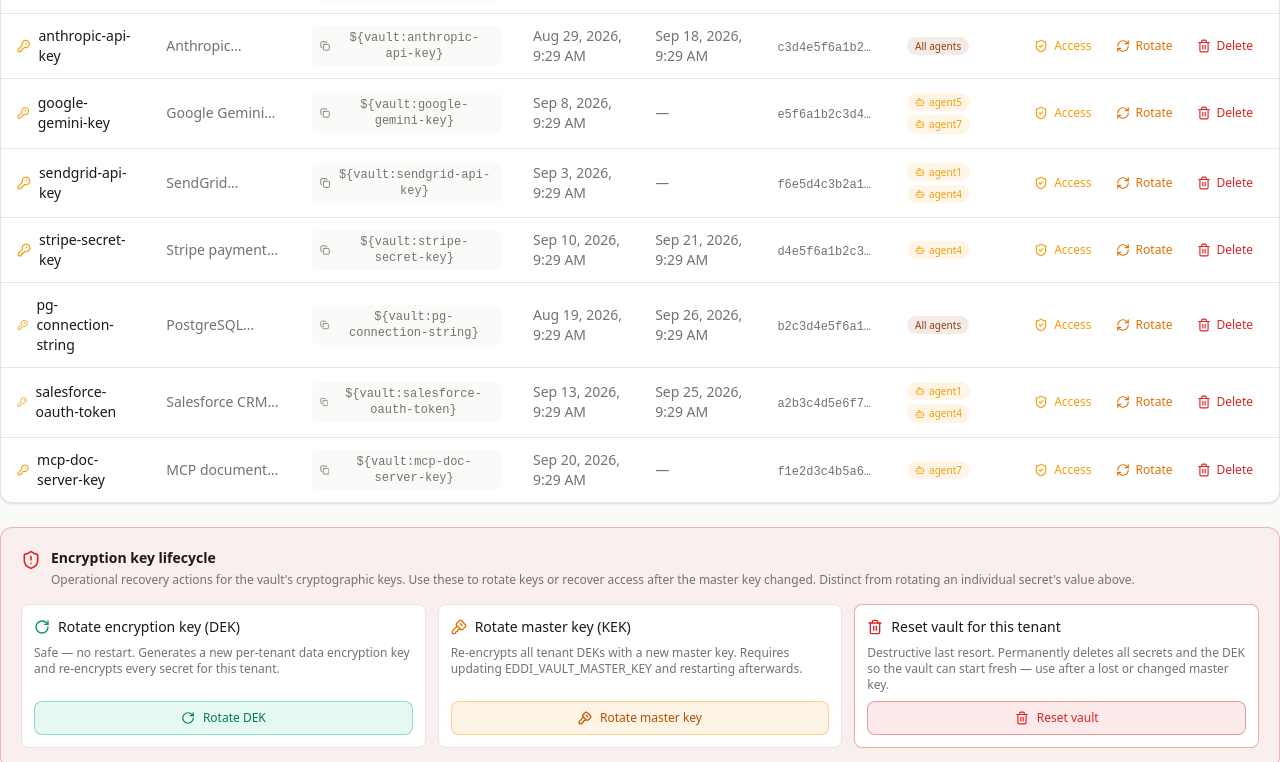
SecretsPage — key lifecycle danger zone › successful KEK rotation surfaces the update-and-restart instruction
The image size is (1280, 762).
(page scrolled)
Click the button with test id "open-rotate-kek" at (640, 718), box [451,701,829,735]
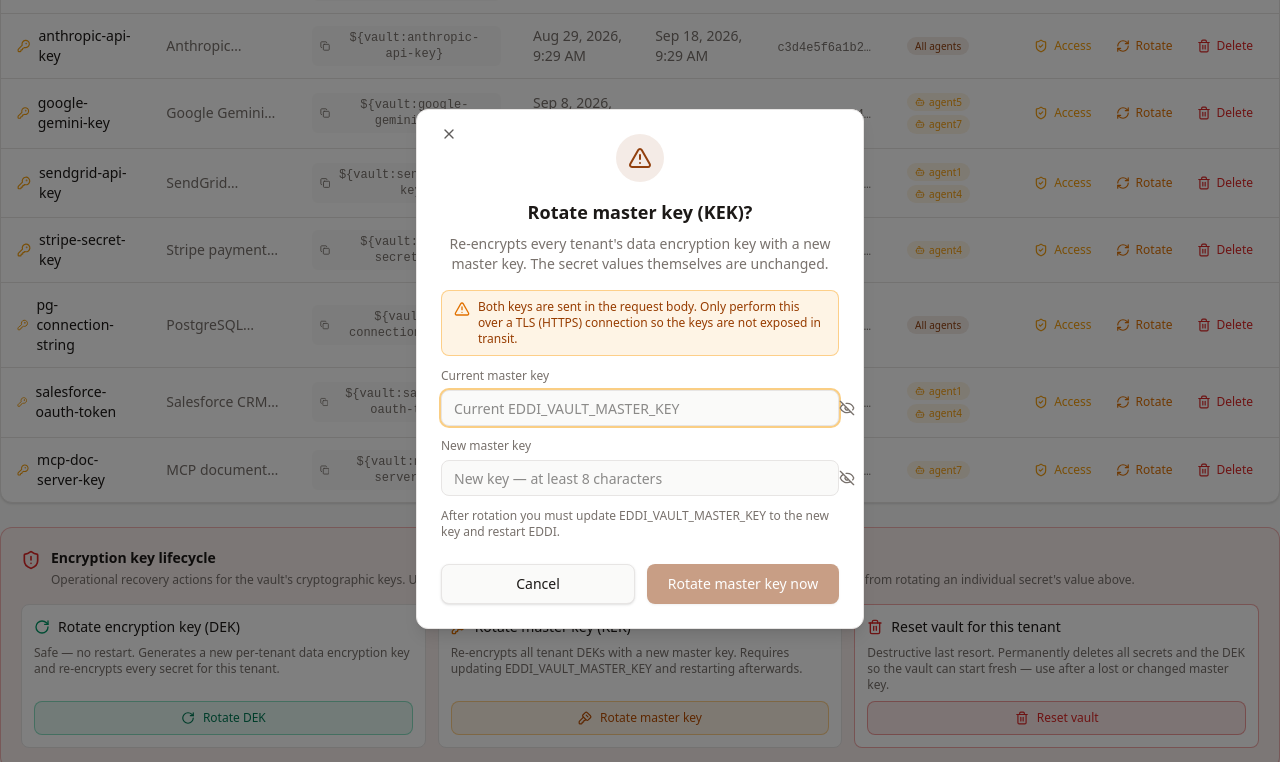
Type "old-master-key" into the password field with test id "kek-old-key-input" at (640, 408), box [441,390,839,426]
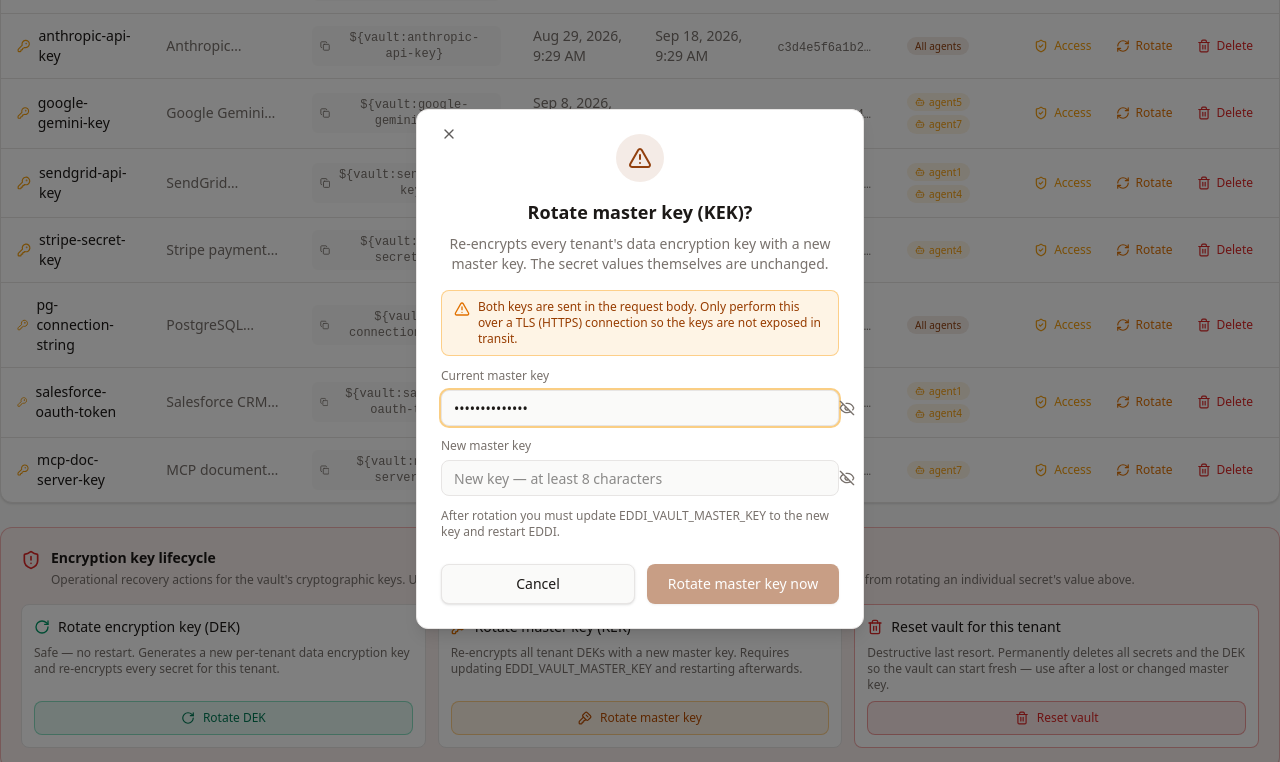
Type "new-master-key-123" into the password field with test id "kek-new-key-input" at (640, 478), box [441,460,839,496]
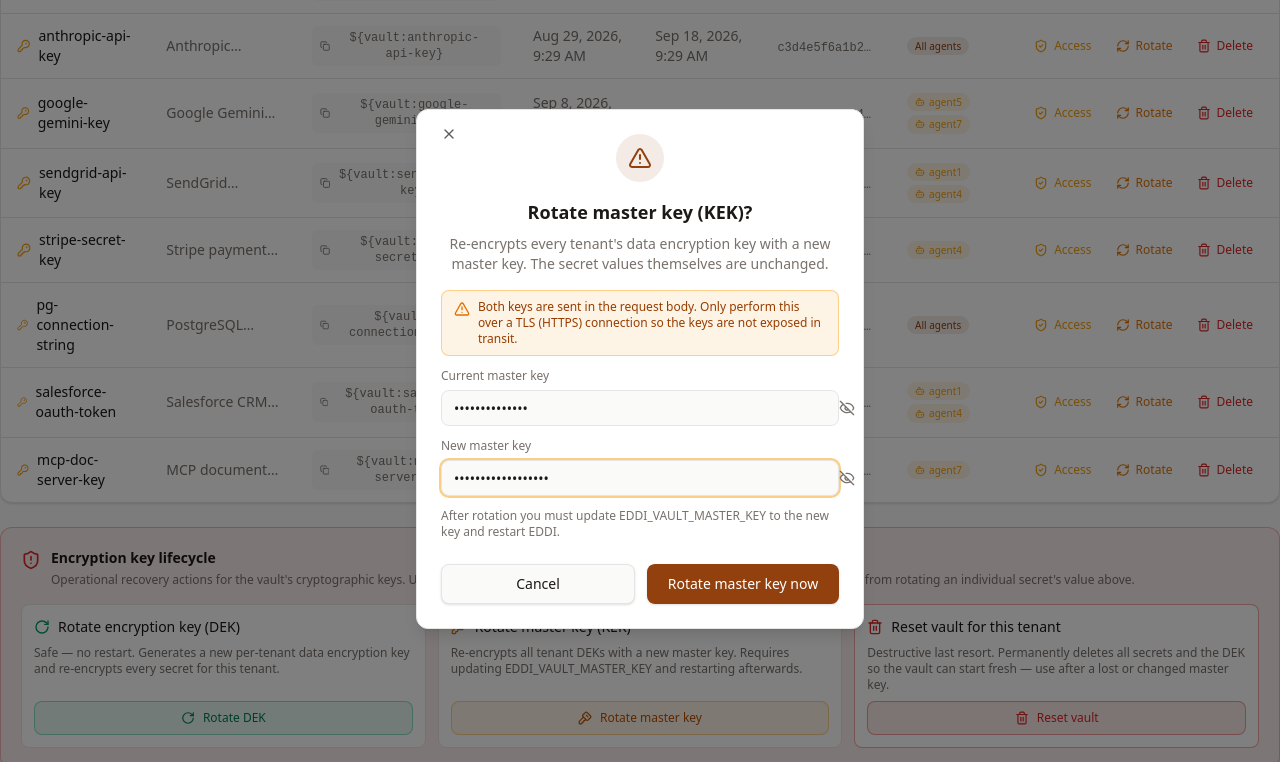
Click the button "Rotate master key now" at (743, 584), box [647,564,839,604]
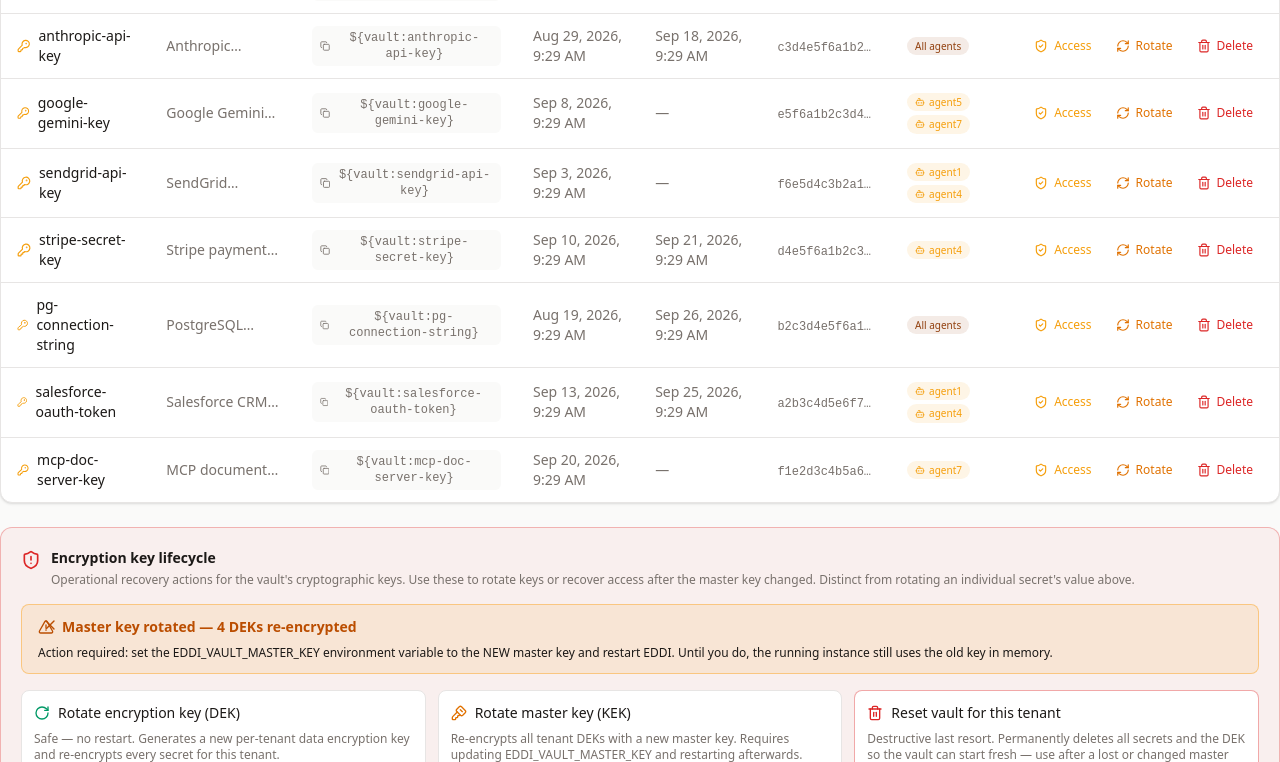
Expected: the message with test id "kek-rotation-result" shows "EDDI_VAULT_MASTER_KEY", [38,644,1053,661]
Expected: the message with test id "kek-rotation-result" shows "restart", [38,644,1053,661]
Expected: the message with test id "kek-rotation-result" shows "4", [62,617,357,636]
